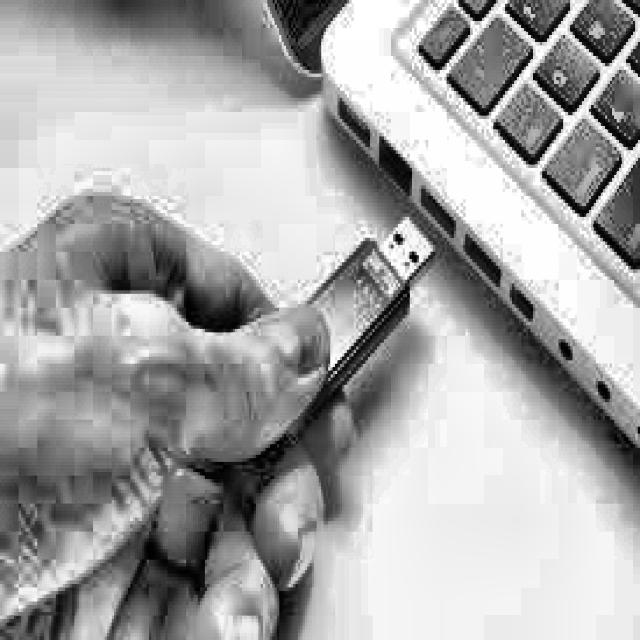Mug: (307, 214, 438, 360)
